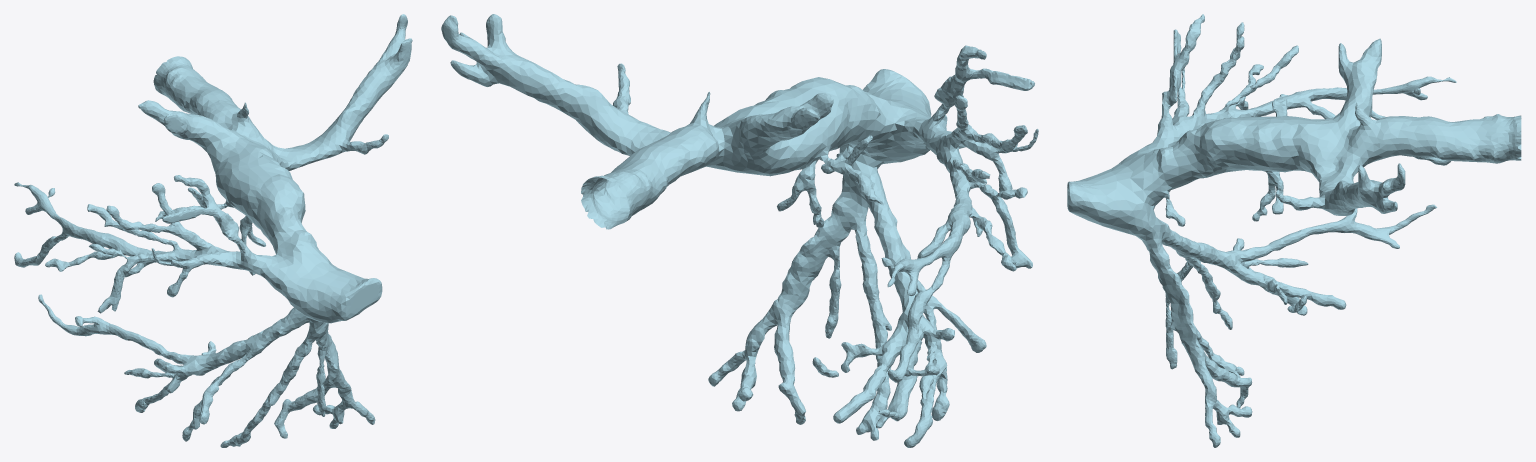
The model's file is venoussystem.obj.
3 views of the same model, side by side, from view 1: azimuth 30°, elevation 25°; view 2: azimuth 150°, elevation 25°; view 3: azimuth 270°, elevation 25° (orthographic). The views are drawn at different scales.
Parts seen in each view (by area): view 1: grp1; view 2: grp1; view 3: grp1.
Boxes of the visible parts, bbox=[...] form: grp1: bbox=[14, 14, 412, 447]; grp1: bbox=[441, 14, 1038, 447]; grp1: bbox=[1067, 14, 1521, 447].
Bounding box in the file's own units: 204 × 157 × 185.
